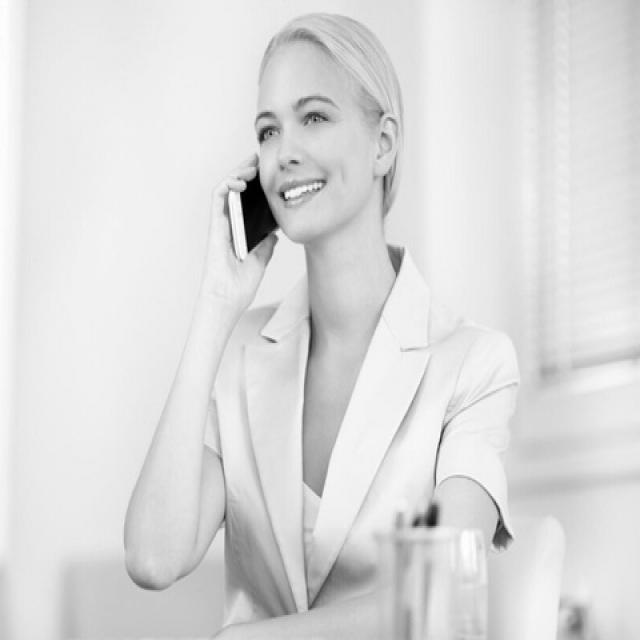phone: (199, 101, 296, 274)
